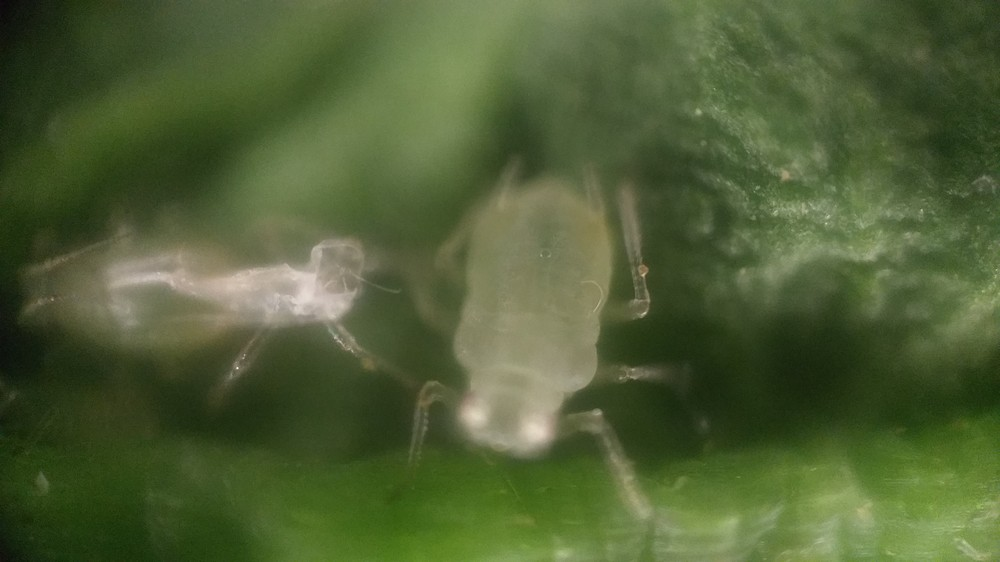Pulgon: (393, 150, 736, 529)
